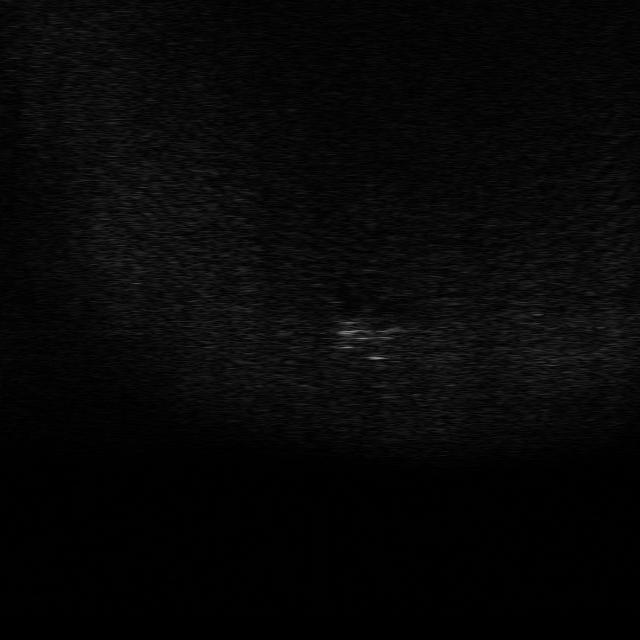plane: (334, 319, 410, 351)
